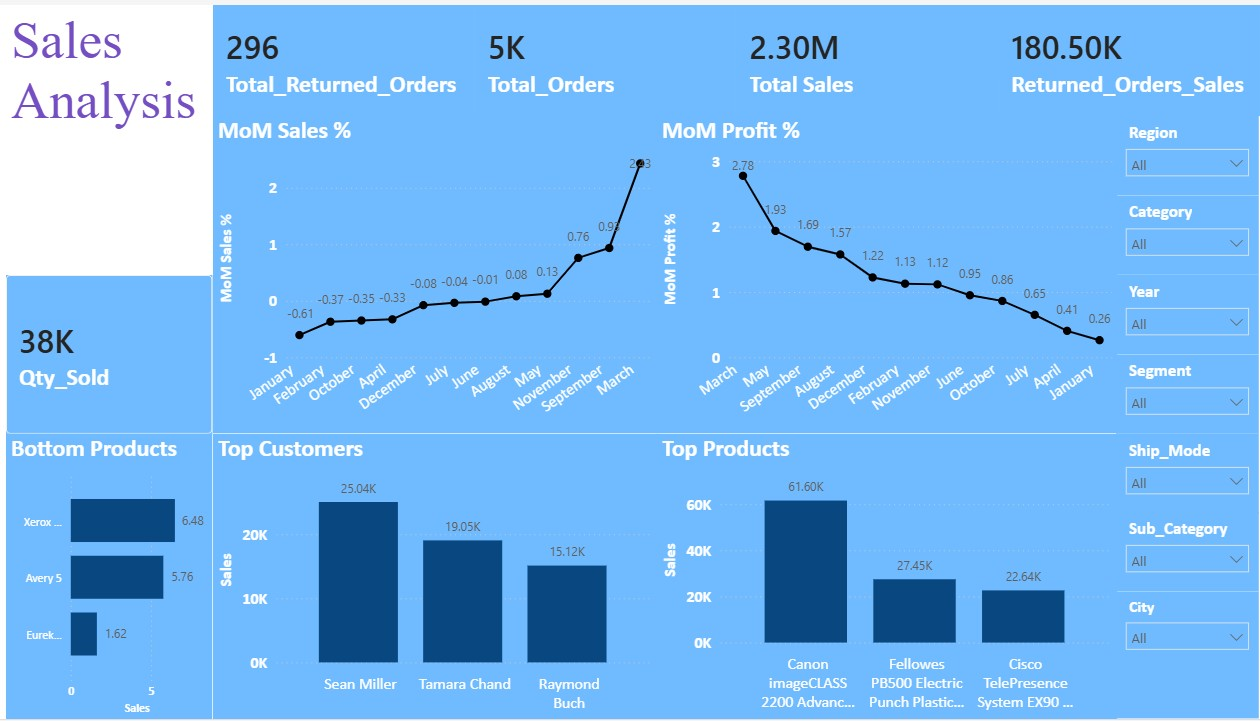

The dashboard page shown, as its layout file describes it:
{"tool":"powerbi","page":{"name":"Page 1","canvas":[1280,720],"ordinal":0},"visuals":[{"type":"cardVisual","fields":{"Data":["_Measures.Total_Returned_Orders","_Measures.Total_Orders","_Measures.Total Sales","_Measures.Sales_From_Returned_Orders"]},"box":[208,0,1056,112],"z":0},{"type":"lineChart","title":"MoM Sales %","fields":{"Category":["DateTable.MonthName"],"Y":["_Measures.MoM Sales %"]},"box":[208,112,448,320],"z":1000},{"type":"slicer","fields":{"Values":["DateTable.Year"]},"box":[1119.8,272,144,80],"z":2000},{"type":"slicer","fields":{"Values":["Superstore_orders_Final.Category"]},"box":[1119.8,192,144,80],"z":3000},{"type":"slicer","fields":{"Values":["Superstore_orders_Final.Region"]},"box":[1119.8,112,144,80],"z":4000},{"type":"slicer","fields":{"Values":["Superstore_orders_Final.Segment"]},"box":[1119.8,352,144,80],"z":5000},{"type":"lineChart","title":"MoM Profit %","fields":{"Category":["DateTable.MonthName"],"Y":["_Measures.Profit %"]},"box":[656,112,464,320],"z":6000},{"type":"columnChart","title":"Top Customers","fields":{"Y":["_Measures.Total Sales"],"Category":["Superstore_orders_Final.Customer_Name"]},"box":[208,432,448,288],"z":7000},{"type":"columnChart","title":"Top Products","fields":{"Y":["_Measures.Total Sales"],"Category":["Superstore_orders_Final.Product_Name"]},"box":[656,432,464,288],"z":8000},{"type":"slicer","fields":{"Values":["Superstore_orders_Final.Ship_Mode"]},"box":[1120,432,144,80],"z":9000},{"type":"slicer","fields":{"Values":["Superstore_orders_Final.Sub_Category"]},"box":[1120,512,144,80],"z":10000},{"type":"slicer","fields":{"Values":["Superstore_orders_Final.City"]},"box":[1120,592,144,128],"z":11000},{"type":"textbox","box":[0,0,208,144],"z":12000},{"type":"cardVisual","fields":{"Data":["_Measures.Qty_Sold"]},"box":[0,272,208,160],"z":13000},{"type":"clusteredBarChart","title":"Bottom Products","fields":{"Category":["Superstore_orders_Final.Product_Name"],"Y":["_Measures.Total Sales"]},"box":[0,432,208,288],"z":13001}]}

Visuals, with their boxes in screenshot pixels (x1, y1, x2, y2), scaled from the page's 1280x720 canvas onto the 1260x721 screenshot:
cardVisual - _Measures.Total_Returned_Orders x _Measures.Total_Orders: bbox=[205, 0, 1244, 112]
"MoM Sales %" lineChart: bbox=[205, 112, 646, 433]
slicer - DateTable.Year: bbox=[1102, 272, 1244, 352]
slicer - Superstore_orders_Final.Category: bbox=[1102, 192, 1244, 272]
slicer - Superstore_orders_Final.Region: bbox=[1102, 112, 1244, 192]
slicer - Superstore_orders_Final.Segment: bbox=[1102, 352, 1244, 433]
"MoM Profit %" lineChart: bbox=[646, 112, 1102, 433]
"Top Customers" columnChart: bbox=[205, 433, 646, 720]
"Top Products" columnChart: bbox=[646, 433, 1102, 720]
slicer - Superstore_orders_Final.Ship_Mode: bbox=[1102, 433, 1244, 513]
slicer - Superstore_orders_Final.Sub_Category: bbox=[1102, 513, 1244, 593]
slicer - Superstore_orders_Final.City: bbox=[1102, 593, 1244, 720]
textbox: bbox=[0, 0, 205, 144]
cardVisual - _Measures.Qty_Sold: bbox=[0, 272, 205, 433]
"Bottom Products" clusteredBarChart: bbox=[0, 433, 205, 720]
